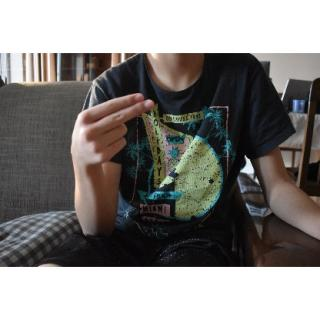AYN: (68, 91, 156, 173)
